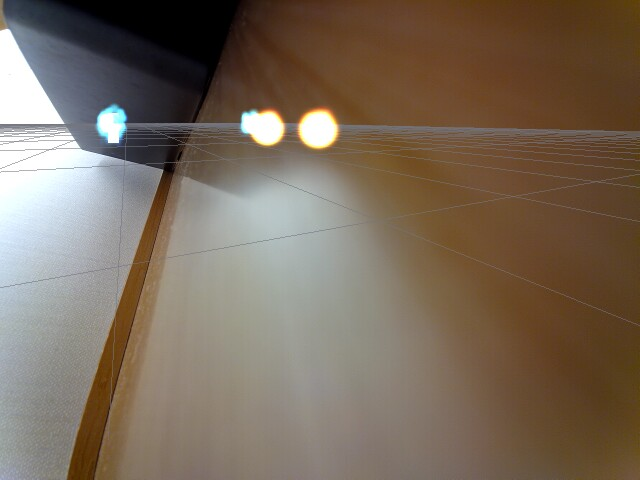firebig: (294, 107, 343, 161)
